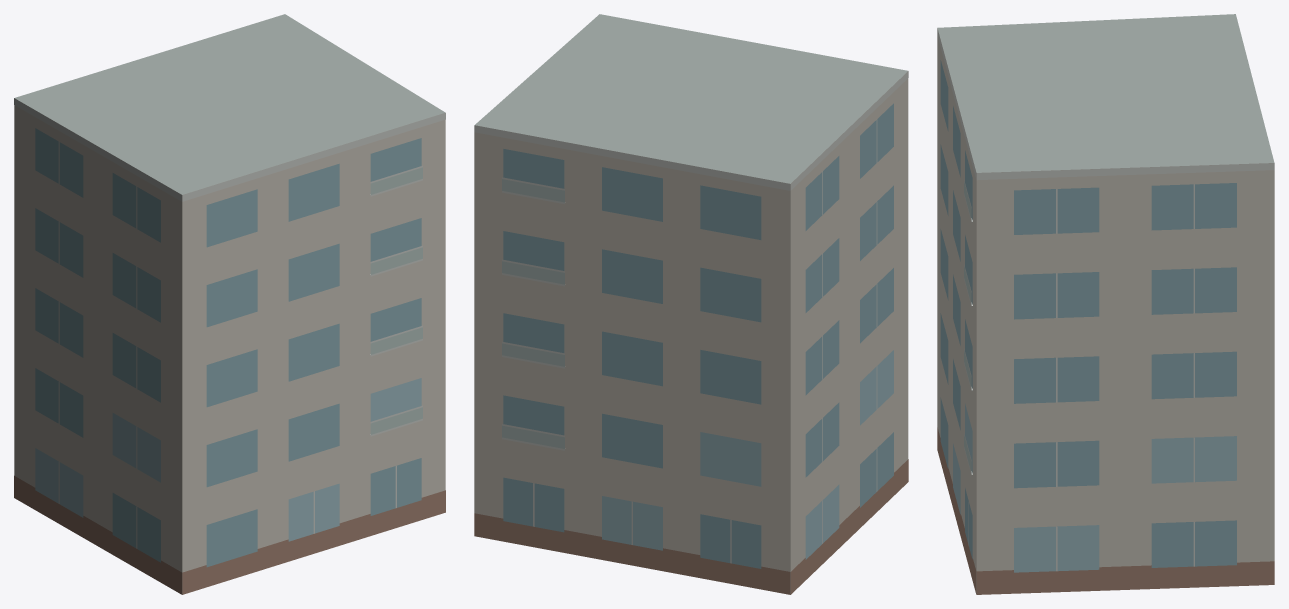
Rendered from survey-upis-32926809.glb.
3 renders of one model, left to right at view 1: azimuth 30°, elevation 25°; view 2: azimuth 150°, elevation 25°; view 3: azimuth 270°, elevation 25°, orthographic. The views are drawn at different scales.
Visible parts, largest first — view 1: survey-upis-32926809.tmp; view 2: survey-upis-32926809.tmp; view 3: survey-upis-32926809.tmp.
Part boxes in pixels (x1,y1,x2,y2): survey-upis-32926809.tmp: (14, 14, 445, 594); survey-upis-32926809.tmp: (474, 14, 908, 594); survey-upis-32926809.tmp: (937, 14, 1274, 594).
Bounding box in the file's own units: 11.48 × 14.2 × 10.29.
